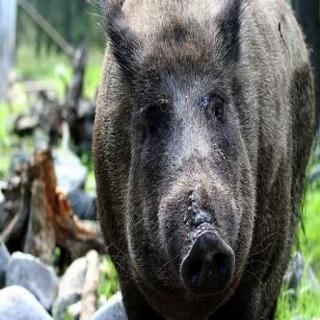Pig: (73, 6, 320, 320)
